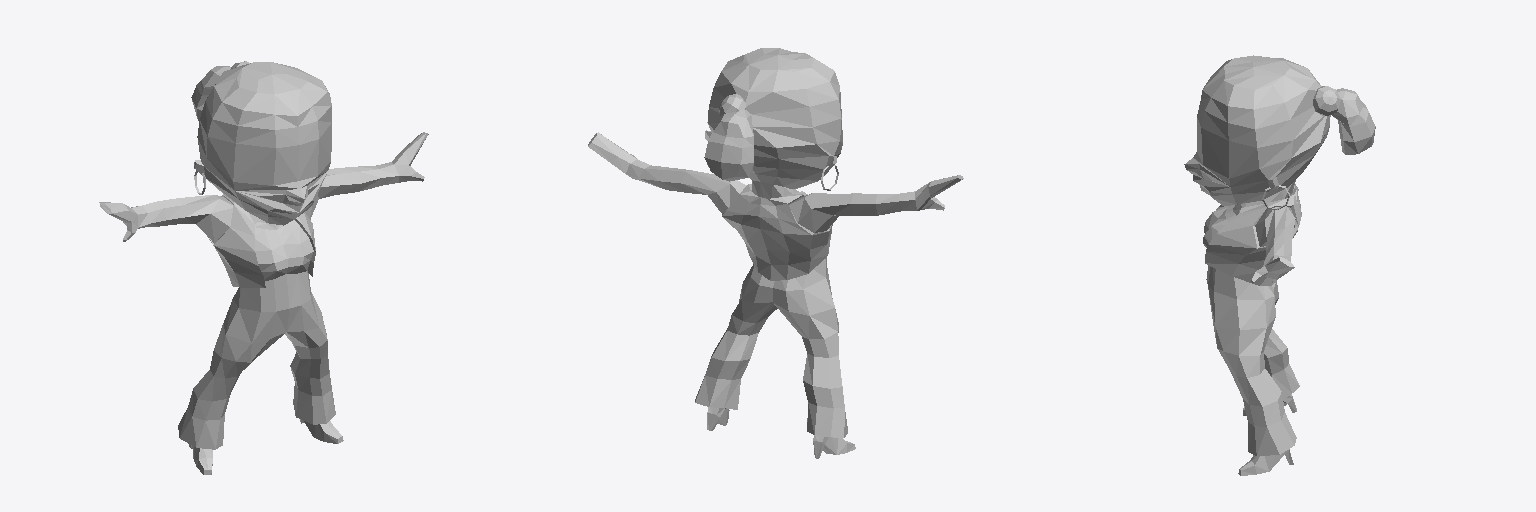
Rendered from bailarina_000004.obj.
3 renders of one model, left to right at view 1: azimuth 30°, elevation 25°; view 2: azimuth 150°, elevation 25°; view 3: azimuth 270°, elevation 25°, orthographic.
Visible parts, largest first — view 1: bAilarina:Mesh; view 2: bAilarina:Mesh; view 3: bAilarina:Mesh.
Boxes of the visible parts, x1=… form: bAilarina:Mesh: x1=99, y1=61, x2=428, y2=474; bAilarina:Mesh: x1=588, y1=48, x2=963, y2=458; bAilarina:Mesh: x1=1184, y1=55, x2=1375, y2=475.
Size of the model in its own units: 16.24 by 16.94 by 7.72.